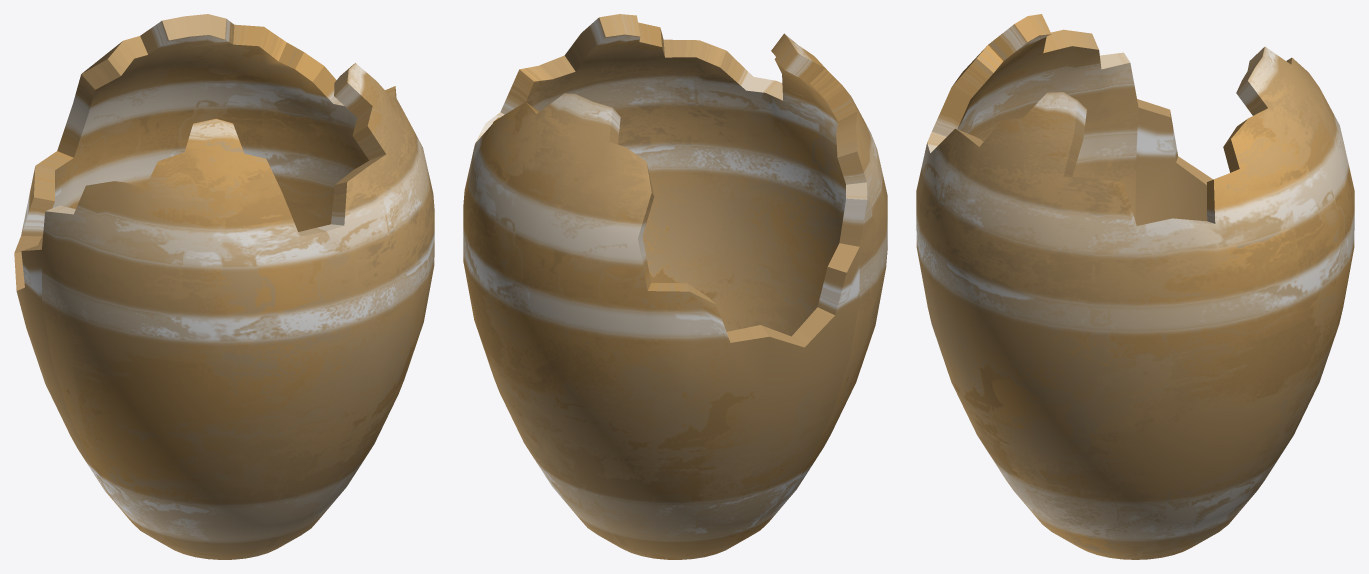
The model's file is MayanVaseBroken.fbx.
3 views of the same model, side by side, from view 1: azimuth 30°, elevation 25°; view 2: azimuth 150°, elevation 25°; view 3: azimuth 270°, elevation 25° (orthographic). The views are drawn at different scales.
Visible parts, largest first — view 1: Sphere.002; view 2: Sphere.002; view 3: Sphere.002.
Part boxes in pixels (x1,y1,x2,y2): Sphere.002: (14,14,434,559); Sphere.002: (463,14,887,559); Sphere.002: (916,14,1354,559).
Size of the model in its own units: 641 by 779 by 635.
1 material, 1 textured.
